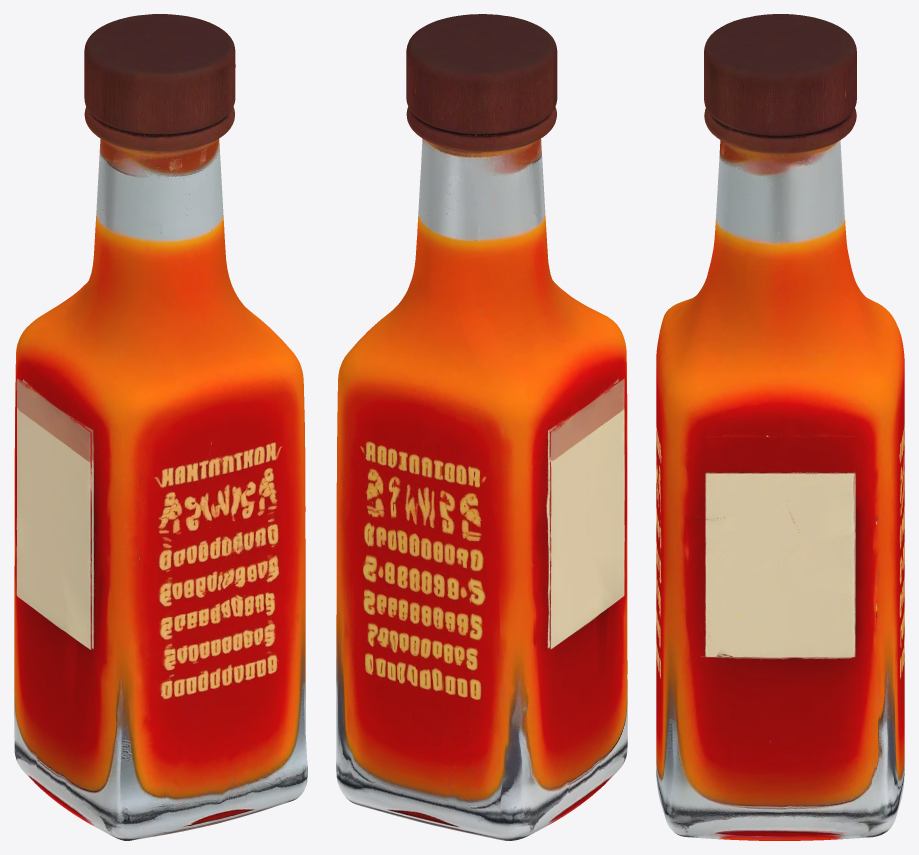
Rendered from kitchen-hot-sauce-07.glb.
3 views of the same model, side by side, from view 1: azimuth 30°, elevation 25°; view 2: azimuth 150°, elevation 25°; view 3: azimuth 270°, elevation 25° (orthographic).
Bounding box in the file's own units: 0.5651 × 1.9 × 0.5654.
Materials: 1 (1 with a texture image).
